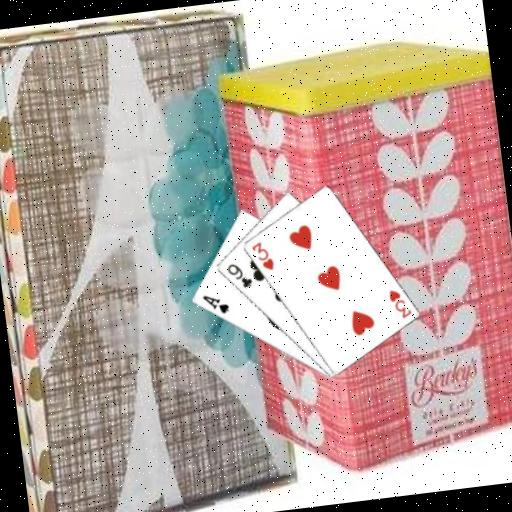3H: (385, 285, 414, 322), (248, 237, 276, 274)
9C: (223, 258, 254, 292)
AS: (199, 290, 231, 318)
